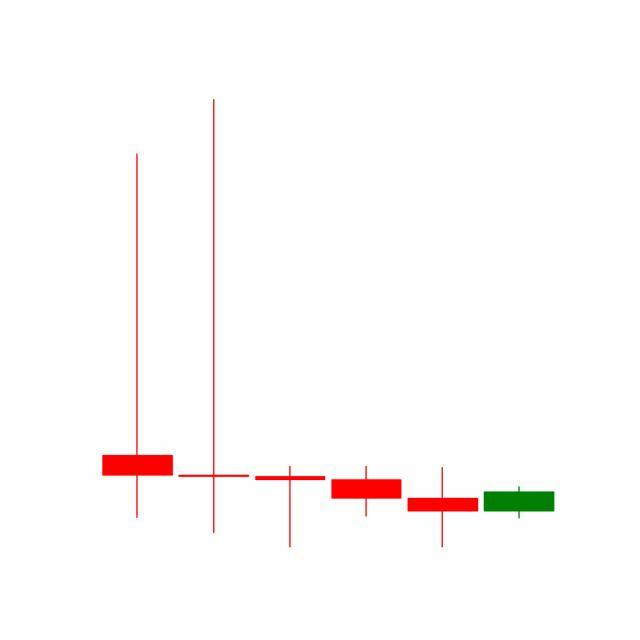Spinning Top: (404, 466, 482, 549)
